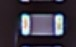COMP: (15, 9, 69, 40)
GAP: (21, 1, 65, 24)
STAN: (13, 31, 20, 47)
